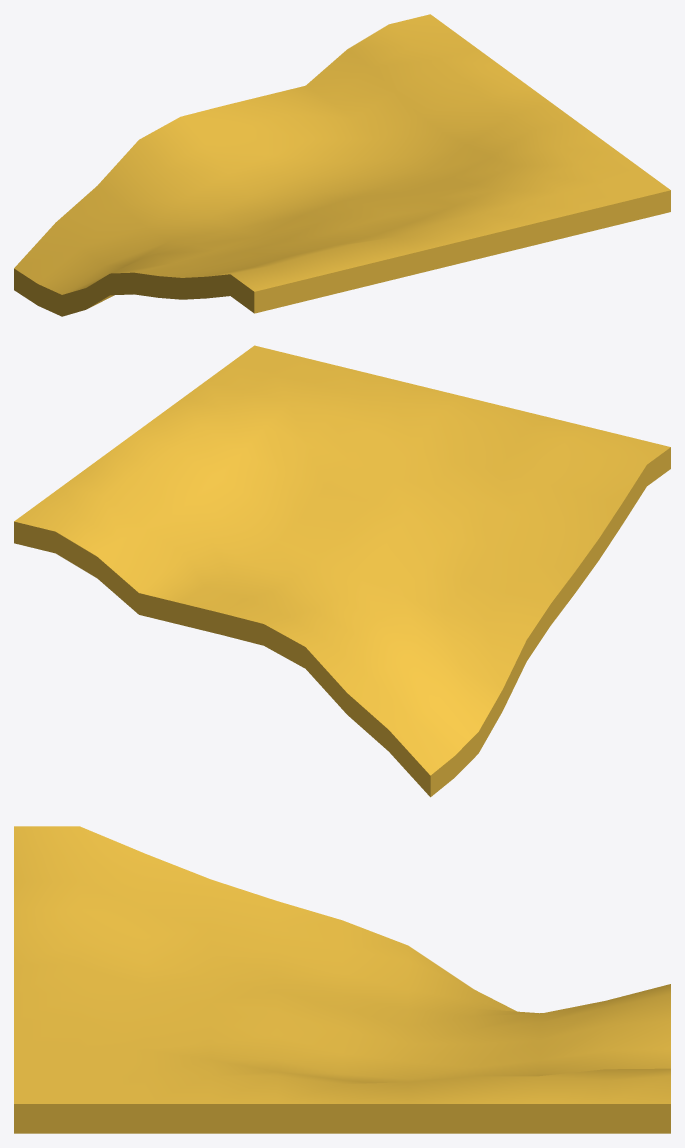
The model's file is Flach - Mitte - Ecke Invertiert b - a.fbx.
The picture shows the model from 3 angles, top to bottom: view 1: azimuth 30°, elevation 25°; view 2: azimuth 150°, elevation 25°; view 3: azimuth 270°, elevation 25°; orthographic projection. The views are drawn at different scales.
Parts seen in each view (by area): view 1: Flach - Mitte - Ecke Invertiert b - a; view 2: Flach - Mitte - Ecke Invertiert b - a; view 3: Flach - Mitte - Ecke Invertiert b - a.
Part boxes in pixels (x1,y1,x2,y2): Flach - Mitte - Ecke Invertiert b - a: [14, 14, 670, 316]; Flach - Mitte - Ecke Invertiert b - a: [14, 345, 670, 797]; Flach - Mitte - Ecke Invertiert b - a: [14, 826, 670, 1133].
Bounding box in the file's own units: 394 × 157 × 394.
